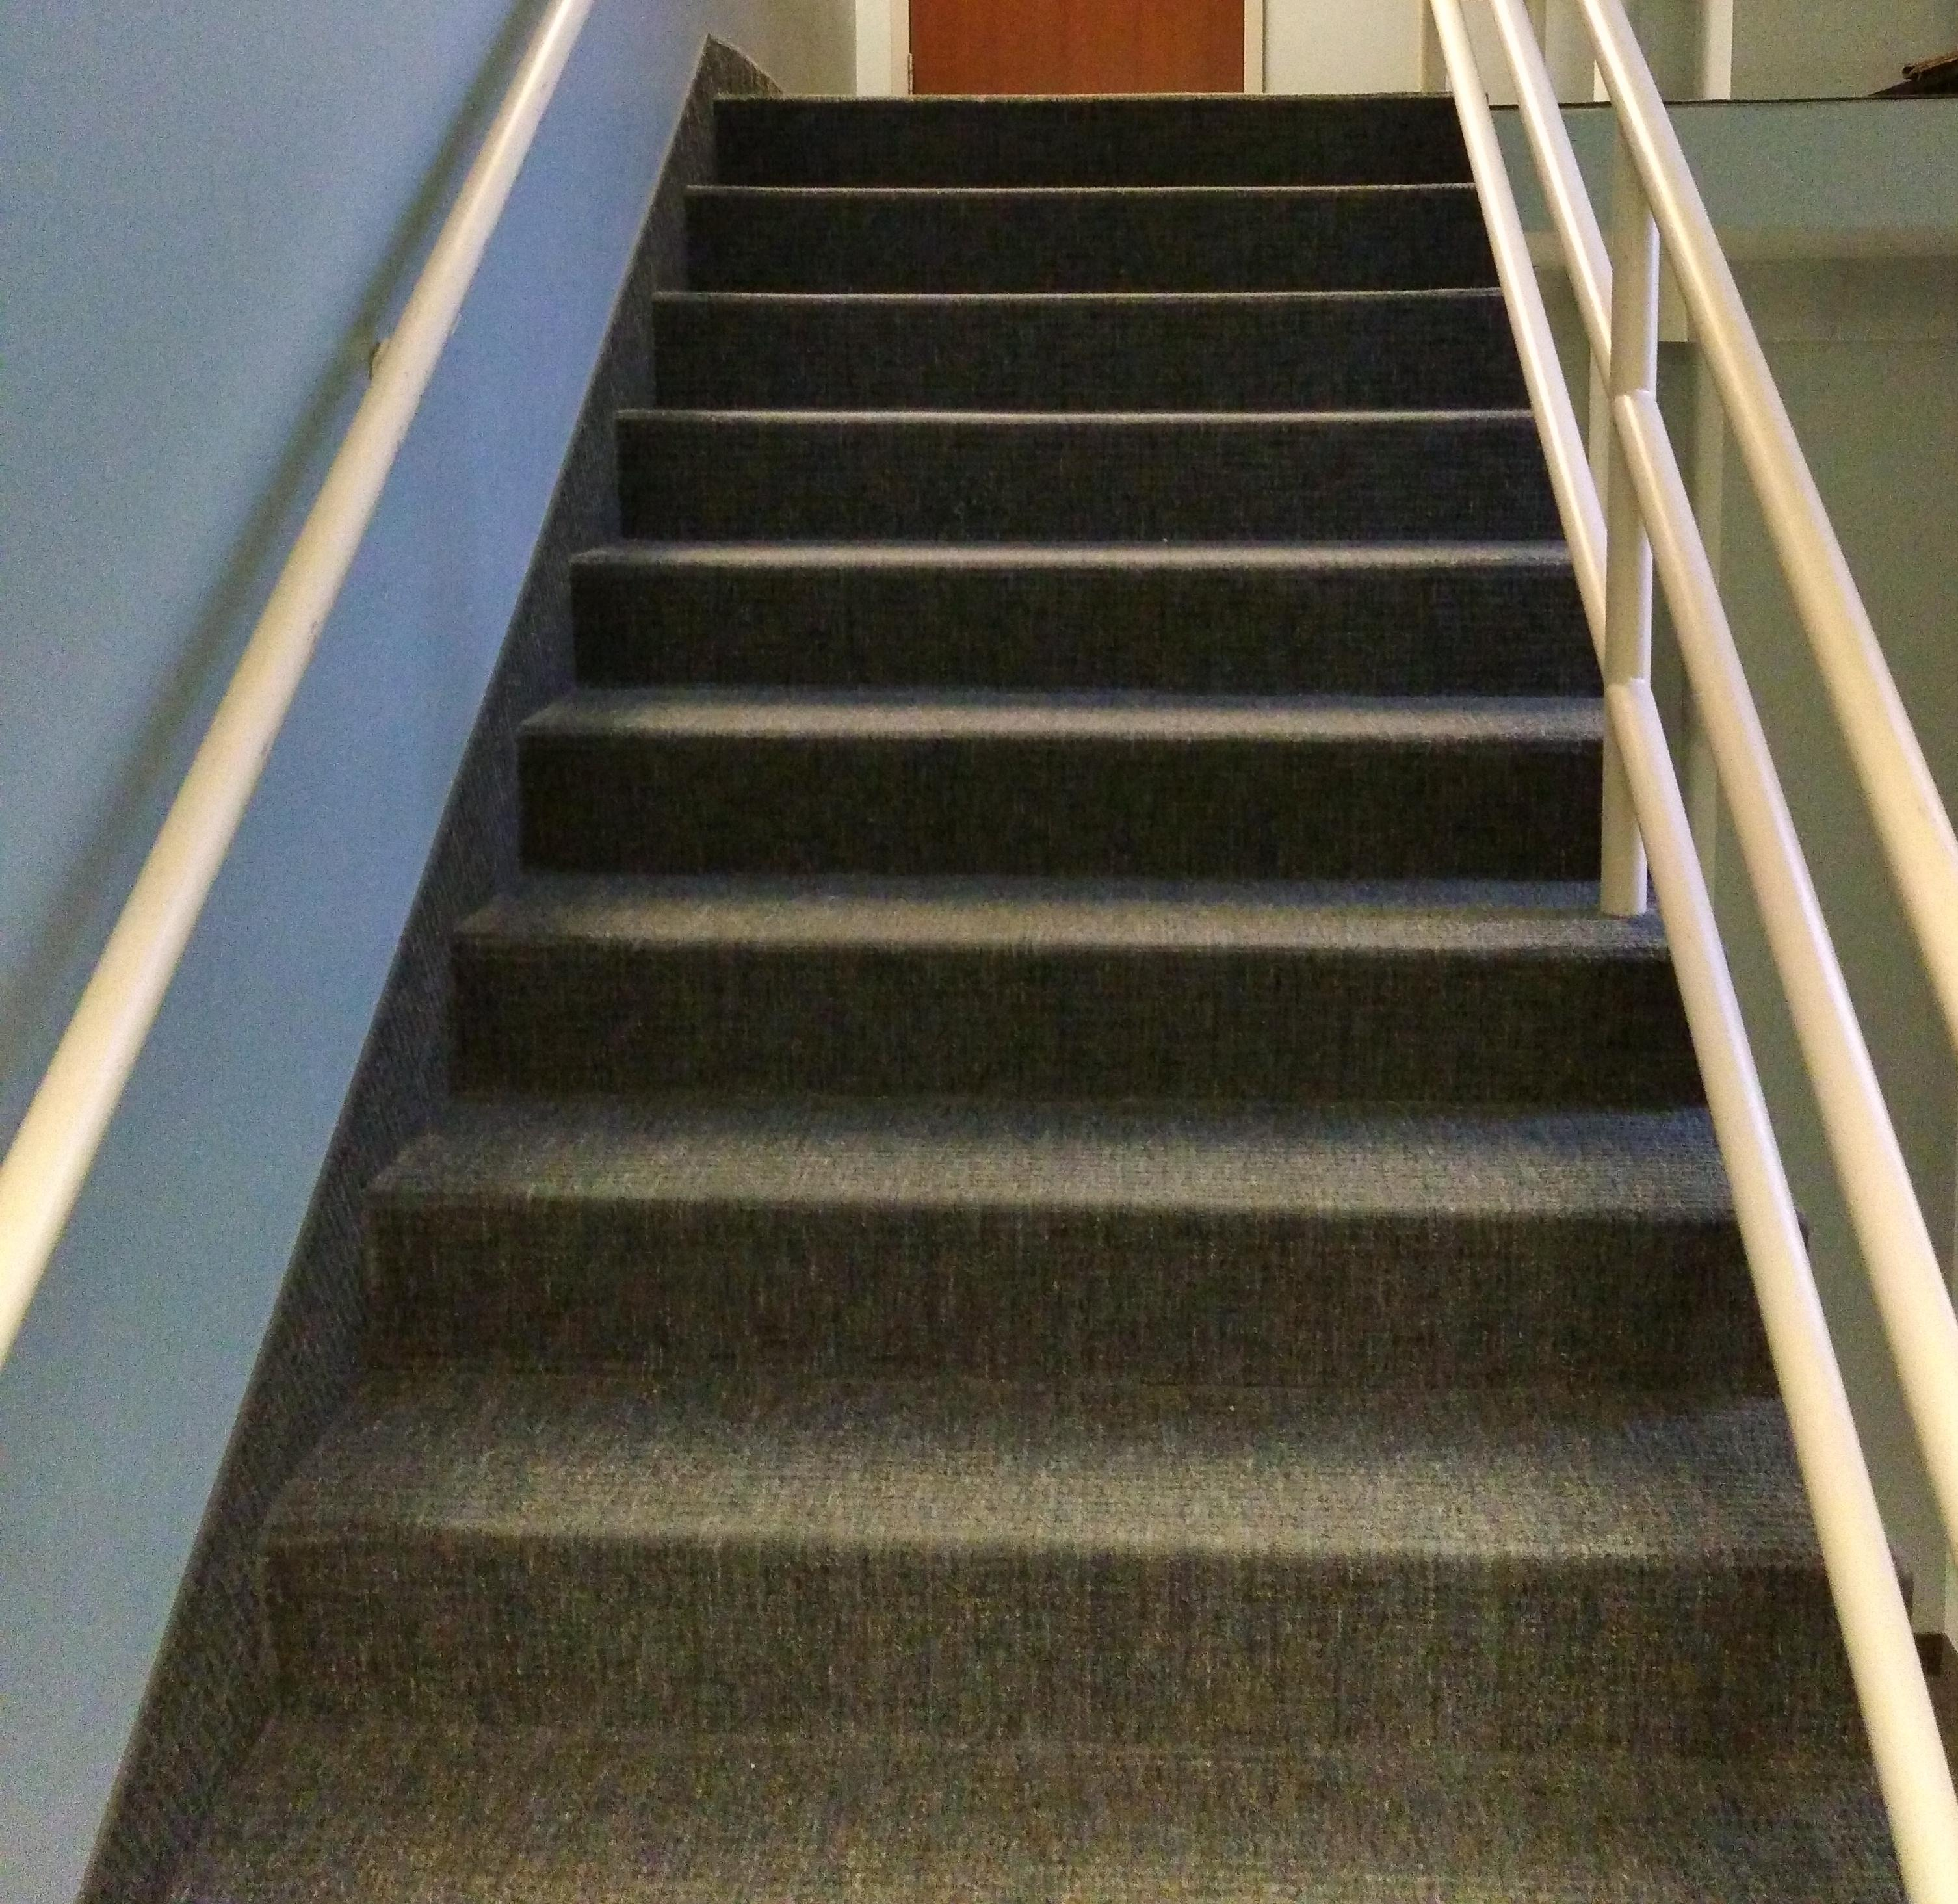stairs_up: (386, 68, 1673, 1752)
